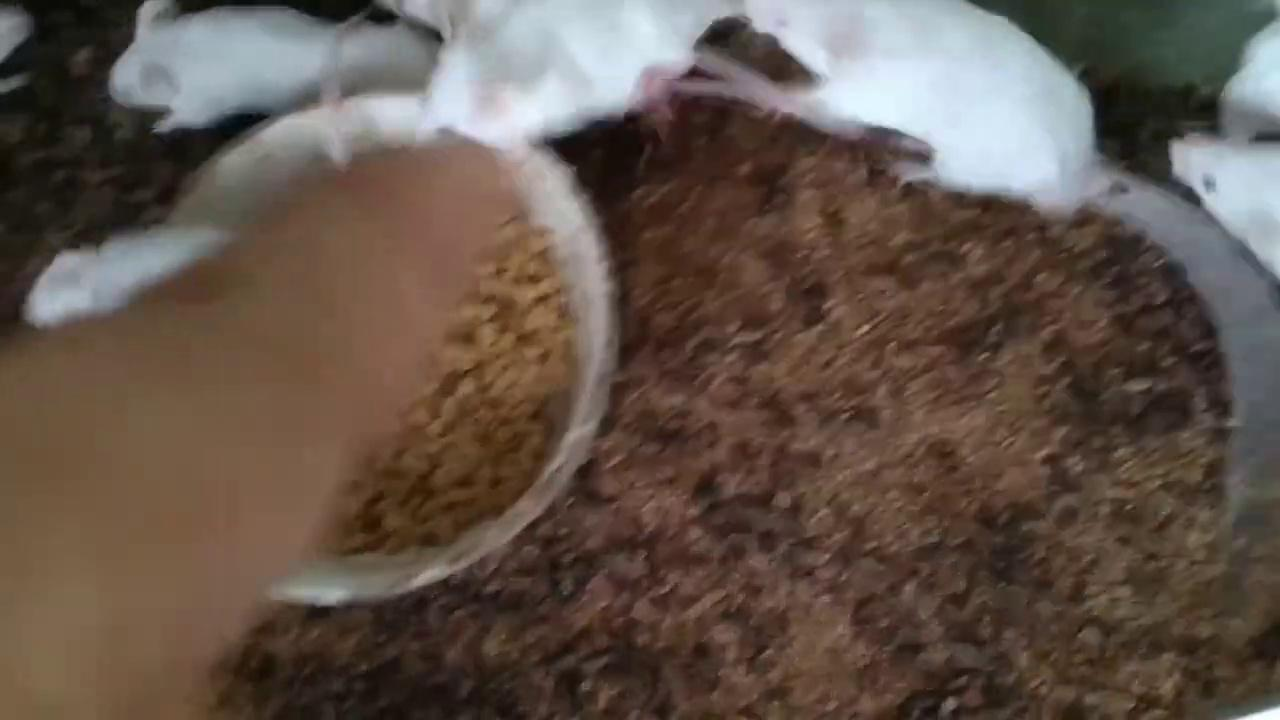rat: (107, 0, 435, 132)
